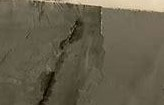Exposed reinforcement: (37, 20, 80, 105)
Spalling: (1, 1, 106, 105)
